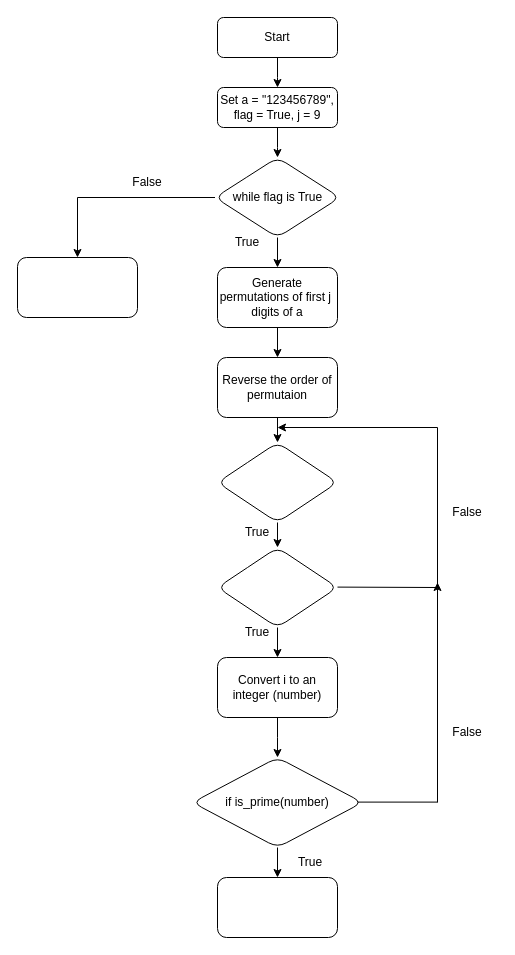
This 515x955 diagram has some shape labels left out. The centre of each missing label's shape, as x and y in pixels:
"End" belongs at (77,287).
"For each permutaion i" belongs at (277,482).
"If last digit of i is odd" belongs at (277,587).
"Print number flag = False Break out of for loop" belongs at (277,907).
